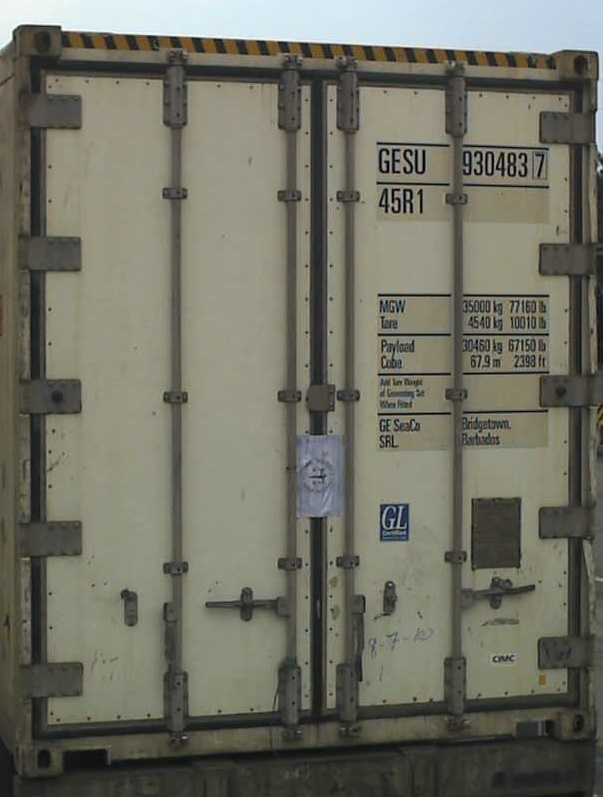container_door: (19, 18, 597, 775)
